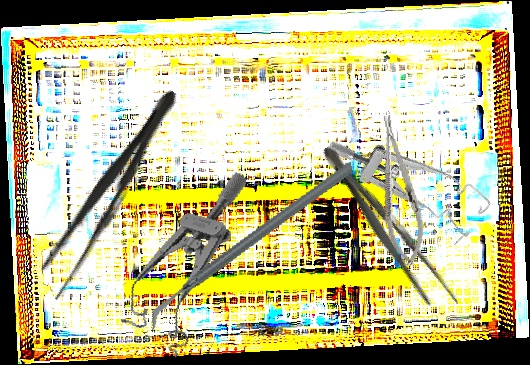Chopper: (125, 160, 378, 332)
Dressing Forceps: (28, 80, 190, 304), (312, 138, 464, 320)
Needle Holder: (368, 112, 431, 268)
Speculum: (114, 152, 249, 364), (324, 96, 496, 259)
